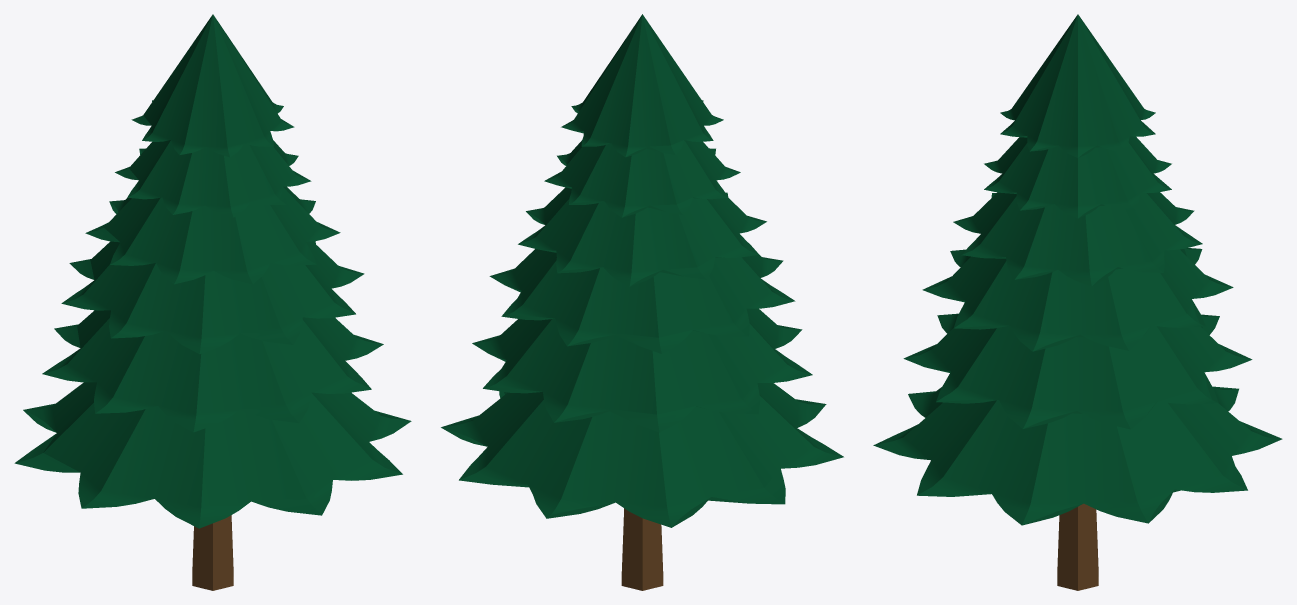
Rendered from Final_tree_001.fbx.
3 renders of one model, left to right at view 1: azimuth 30°, elevation 25°; view 2: azimuth 150°, elevation 25°; view 3: azimuth 270°, elevation 25°, orthographic.
Visible parts, largest first — view 1: Tree_001; view 2: Tree_001; view 3: Tree_001.
Part boxes in pixels (x1=…): Tree_001: x1=14, y1=14, x2=411, y2=590; Tree_001: x1=441, y1=14, x2=843, y2=590; Tree_001: x1=873, y1=14, x2=1282, y2=590.
Bounding box in the file's own units: 16.4 × 26 × 17.04.
